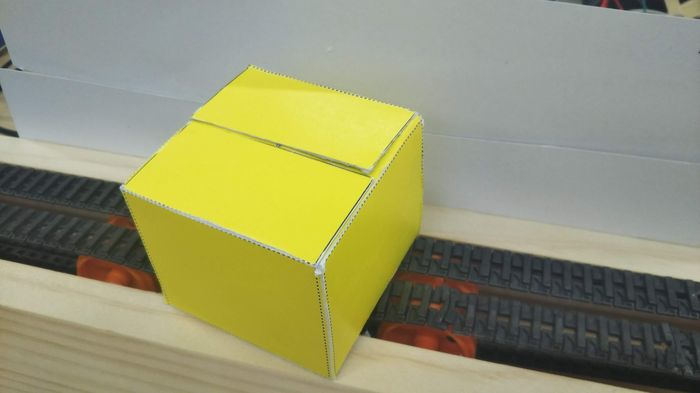box4: (114, 55, 428, 381)
